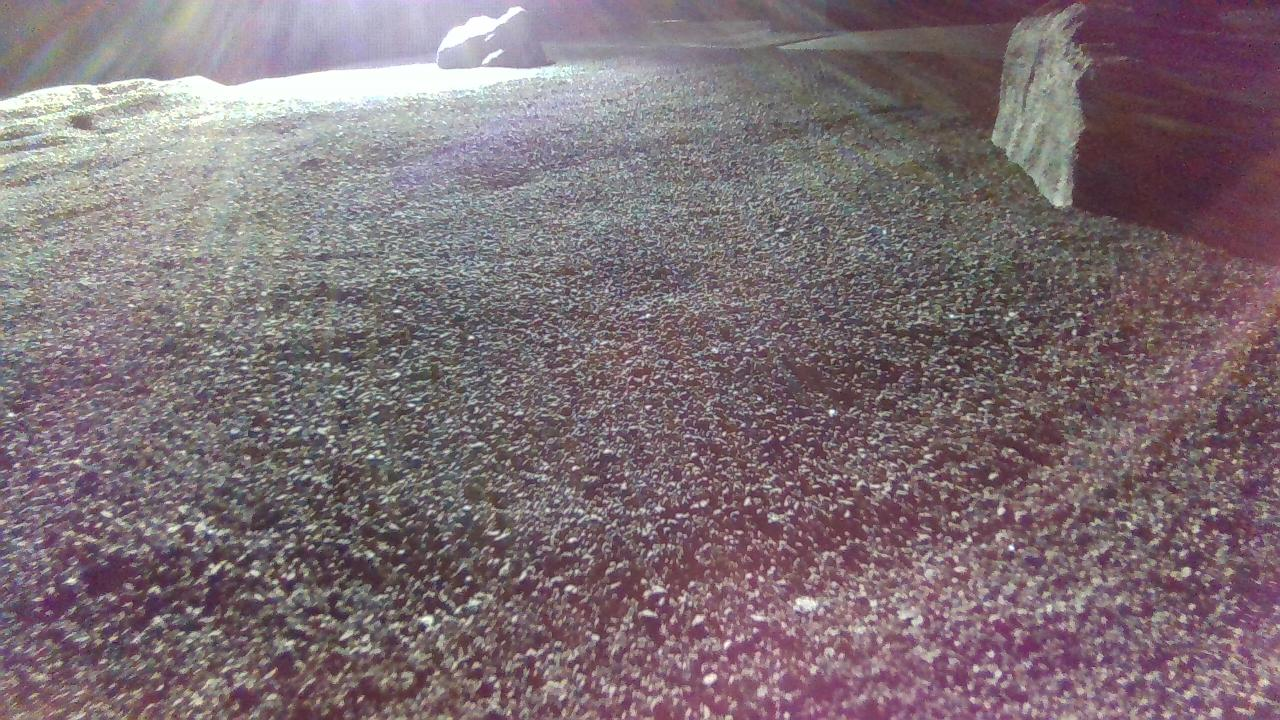rock: (994, 1, 1093, 206), (436, 4, 549, 66)
